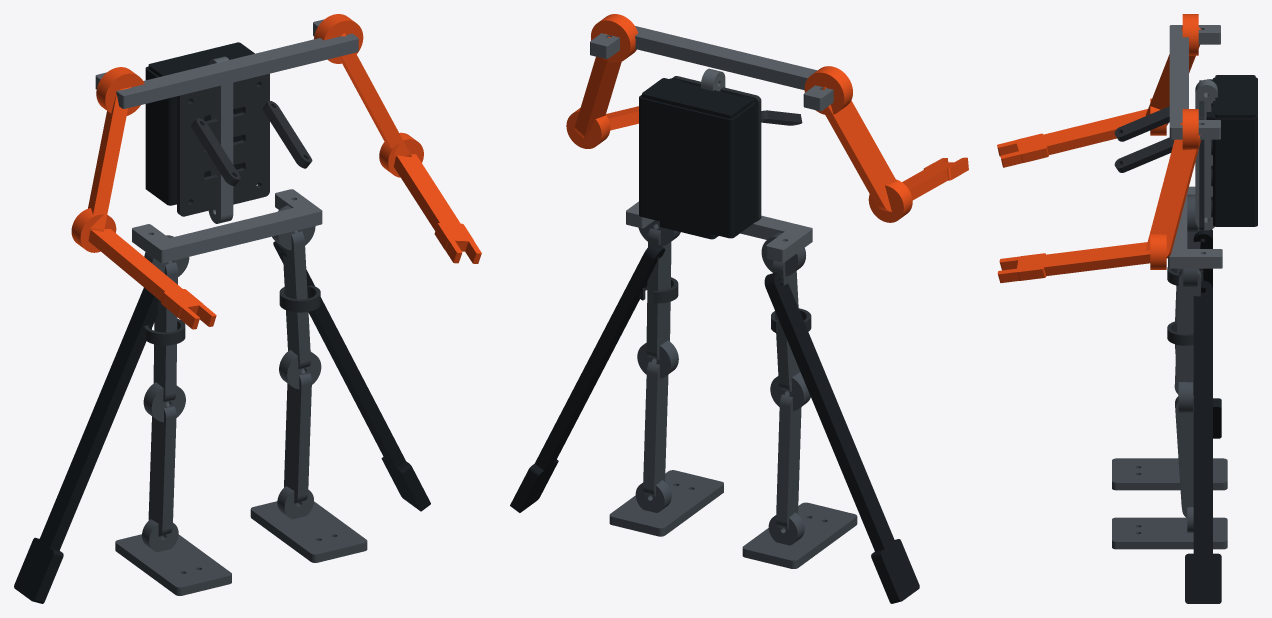
File: exo-forge-cad-v02.glb
The picture shows the model from 3 angles, left to right: view 1: azimuth 30°, elevation 25°; view 2: azimuth 150°, elevation 25°; view 3: azimuth 270°, elevation 25°; orthographic projection. The views are drawn at different scales.
Parts seen in each view (by area): view 1: H01_HARNESS_BACKPLATE_03, P03_OUTRIGGER_L_16, F01_SHOULDER_YOKE_00, F03_PELVIS_YOKE_01, P03_OUTRIGGER_R_29, L06_FOOT_PLATE_R_22, L06_FOOT_PLATE_L_09, A04_FOREARM_GRIPPER_L_14, P01_POWER_BODY_30, A04_FOREARM_GRIPPER_R_27, L04_SHIN_LINK_L_07, L04_SHIN_LINK_R_20 (+18 smaller); view 2: P01_POWER_BODY_30, P03_OUTRIGGER_L_16, P03_OUTRIGGER_R_29, F01_SHOULDER_YOKE_00, L06_FOOT_PLATE_L_09, L06_FOOT_PLATE_R_22, A02_UPPER_ARM_L_12, L04_SHIN_LINK_R_20, L04_SHIN_LINK_L_07, P01_POWER_LID_31, F03_PELVIS_YOKE_01, L02_THIGH_LINK_R_18 (+13 smaller); view 3: P03_OUTRIGGER_R_29, P01_POWER_BODY_30, A04_FOREARM_GRIPPER_R_27, L06_FOOT_PLATE_R_22, A04_FOREARM_GRIPPER_L_14, F01_SHOULDER_YOKE_00, L06_FOOT_PLATE_L_09, A02_UPPER_ARM_R_25, L02_THIGH_LINK_R_18, P01_POWER_LID_31, F02_SPINE_RAIL_02, F03_PELVIS_YOKE_01 (+11 smaller).
Part boxes in pixels (x1,y1,x2,y2): H01_HARNESS_BACKPLATE_03: (177,73,269,216); P03_OUTRIGGER_L_16: (14,287,158,603); F01_SHOULDER_YOKE_00: (95,19,358,108); F03_PELVIS_YOKE_01: (132,189,322,263); P03_OUTRIGGER_R_29: (273,241,430,511); L06_FOOT_PLATE_R_22: (250,501,367,562); L06_FOOT_PLATE_L_09: (115,534,231,595); A04_FOREARM_GRIPPER_L_14: (88,229,216,329); P01_POWER_BODY_30: (145,66,258,205); A04_FOREARM_GRIPPER_R_27: (393,154,481,263); L04_SHIN_LINK_L_07: (148,401,176,536); L04_SHIN_LINK_R_20: (284,368,311,503); P01_POWER_BODY_30: (639,78,755,238); P03_OUTRIGGER_L_16: (764,272,919,603); P03_OUTRIGGER_R_29: (510,242,665,512); F01_SHOULDER_YOKE_00: (590,26,833,111); L06_FOOT_PLATE_L_09: (742,502,857,568); L06_FOOT_PLATE_R_22: (609,470,723,536); A02_UPPER_ARM_L_12: (822,86,896,211); L04_SHIN_LINK_R_20: (643,358,668,496); L04_SHIN_LINK_L_07: (776,391,801,528); P01_POWER_LID_31: (642,78,752,118); F03_PELVIS_YOKE_01: (626,201,812,262); L02_THIGH_LINK_R_18: (646,224,671,359); P03_OUTRIGGER_R_29: (1185,280,1221,603); P01_POWER_BODY_30: (1206,77,1257,226); A04_FOREARM_GRIPPER_R_27: (997,242,1150,282); L06_FOOT_PLATE_R_22: (1112,517,1227,549); A04_FOREARM_GRIPPER_L_14: (997,109,1147,167); F01_SHOULDER_YOKE_00: (1169,25,1220,139); L06_FOOT_PLATE_L_09: (1112,458,1227,490); A02_UPPER_ARM_R_25: (1146,122,1200,258); L02_THIGH_LINK_R_18: (1174,269,1201,394); P01_POWER_LID_31: (1215,75,1255,118); F02_SPINE_RAIL_02: (1195,79,1217,230); F03_PELVIS_YOKE_01: (1168,186,1222,268).
Size of the model in its own units: 256 by 315 by 163.
